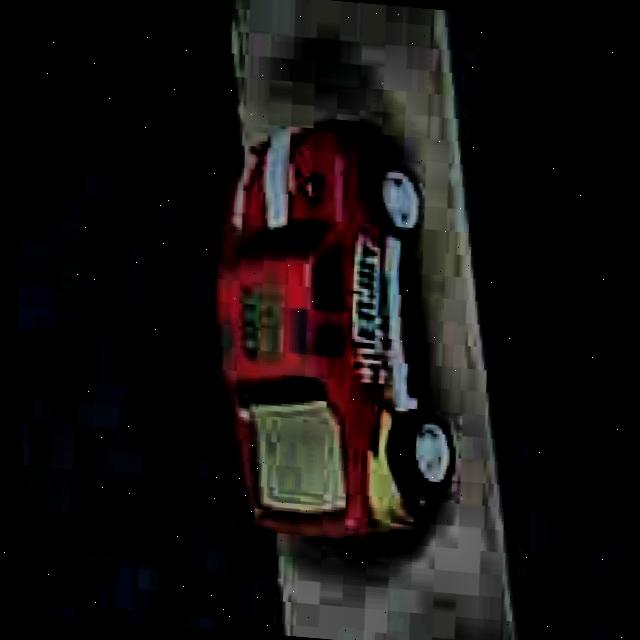car: (179, 110, 490, 556)
